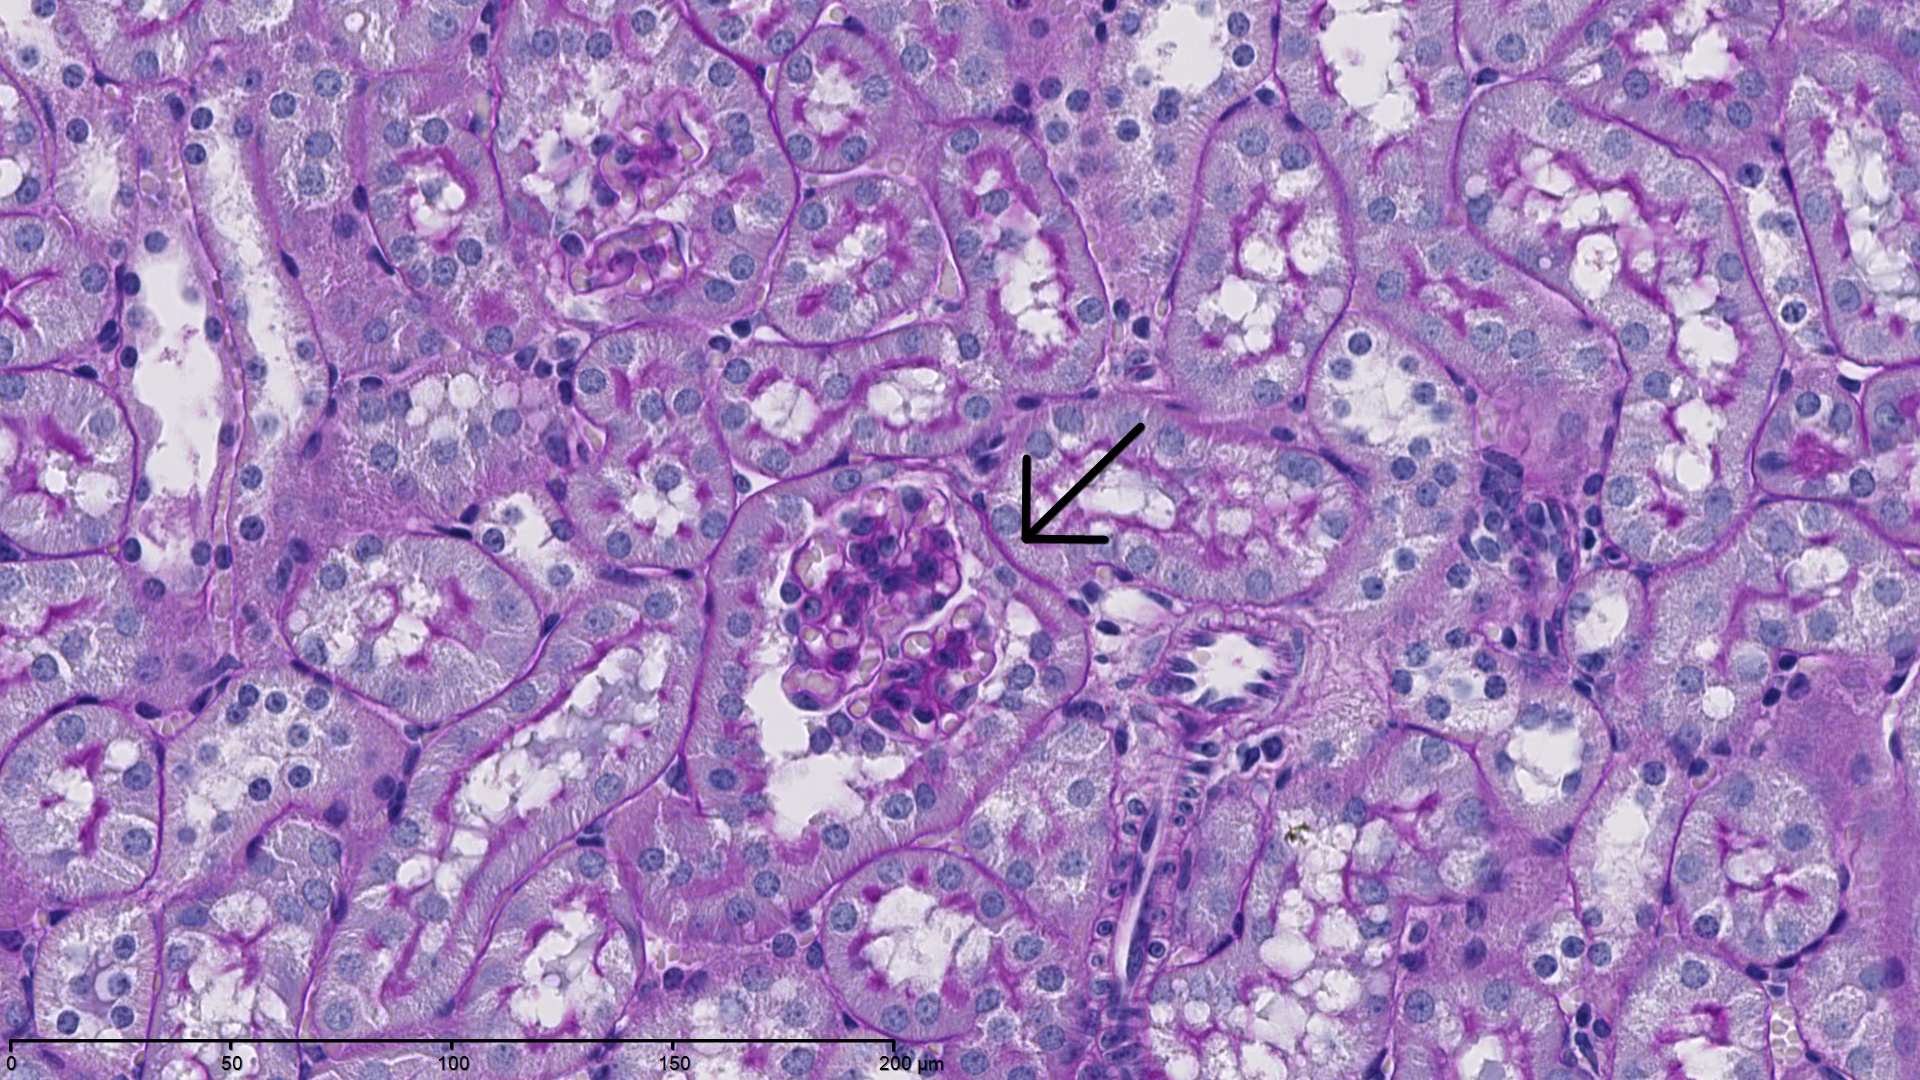Glomeruli: (752, 483, 1010, 783)
